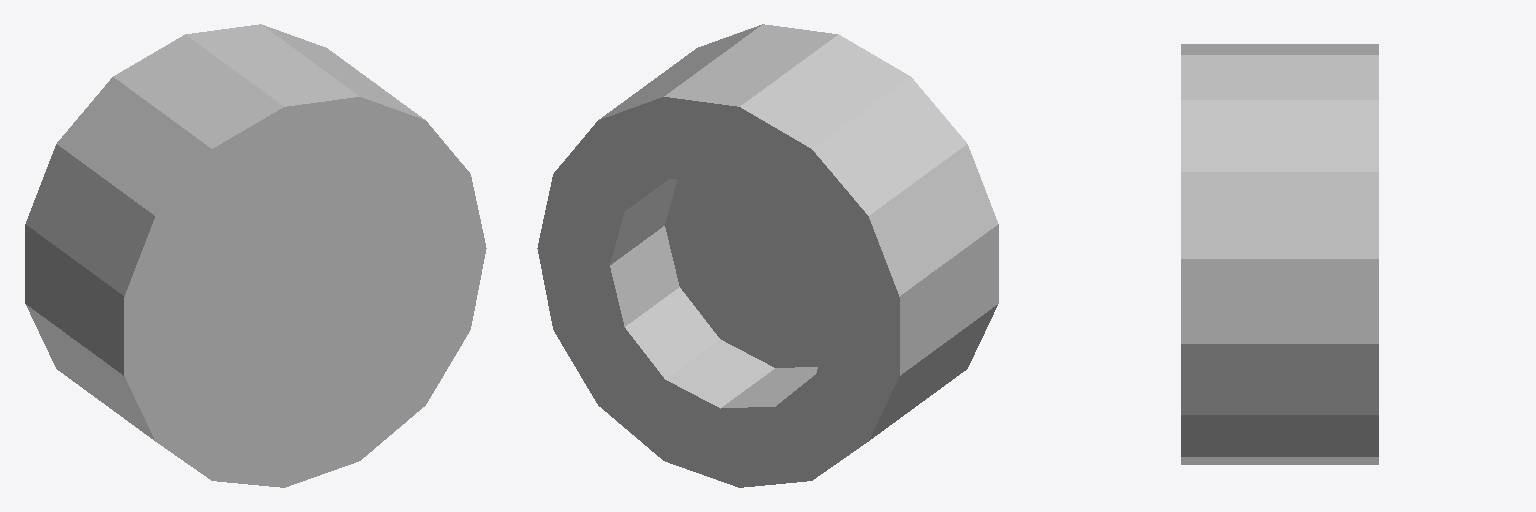
The model's file is Колпак.obj.
The picture shows the model from 3 angles: view 1: azimuth 30°, elevation 25°; view 2: azimuth 150°, elevation 25°; view 3: azimuth 270°, elevation 25°; orthographic projection.
Parts seen in each view (by area): view 1: Твердое тело2; view 2: Твердое тело2; view 3: Твердое тело2.
Part boxes in pixels (left/top/right/bottom): Твердое тело2: left=25, top=24, right=486, bottom=487; Твердое тело2: left=537, top=24, right=998, bottom=487; Твердое тело2: left=1181, top=44, right=1378, bottom=464.
Bounding box in the file's own units: 4.75 × 4.77 × 2.25.